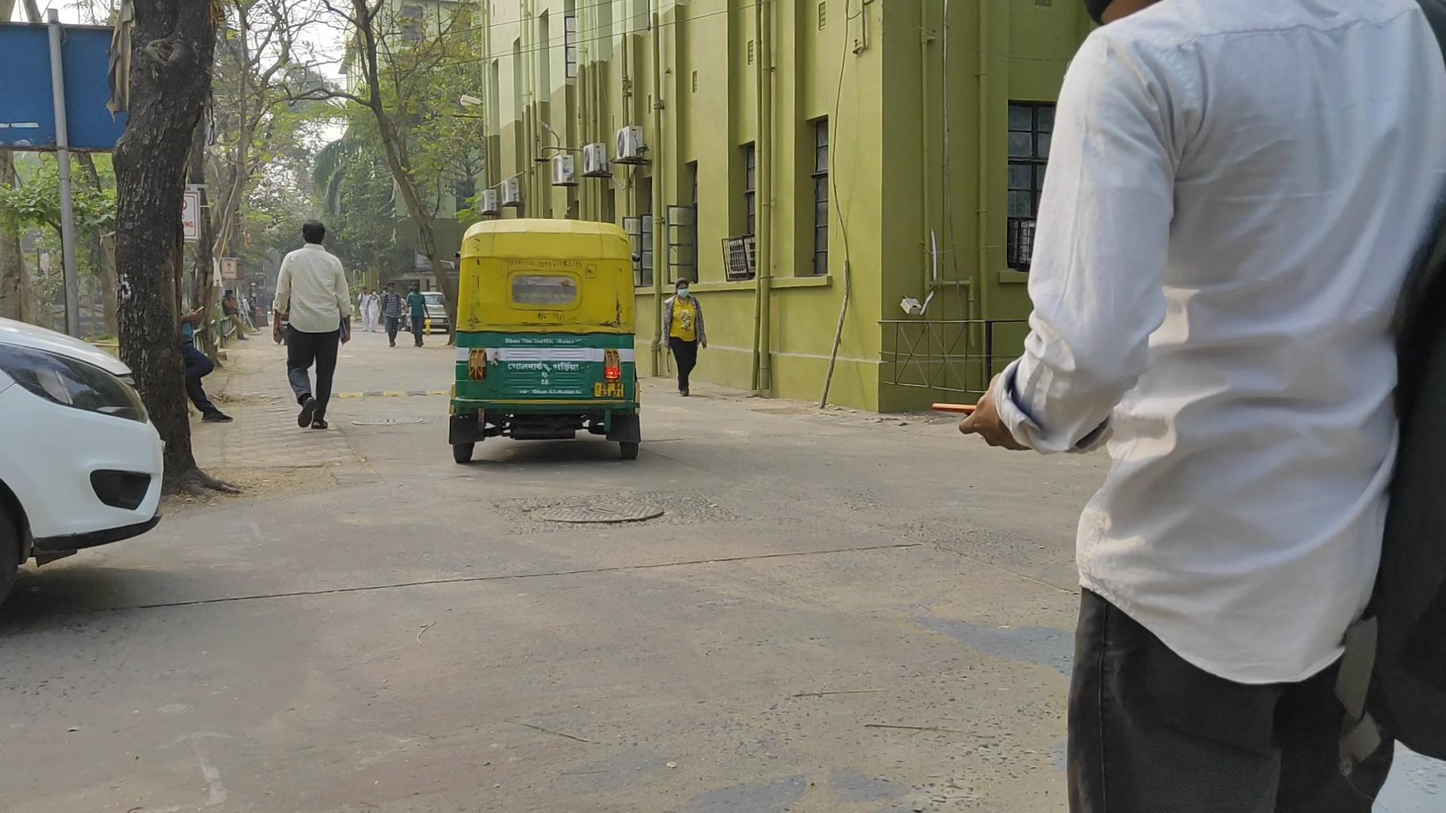Auto: (451, 216, 645, 465)
car: (2, 308, 164, 593), (404, 291, 450, 335)
